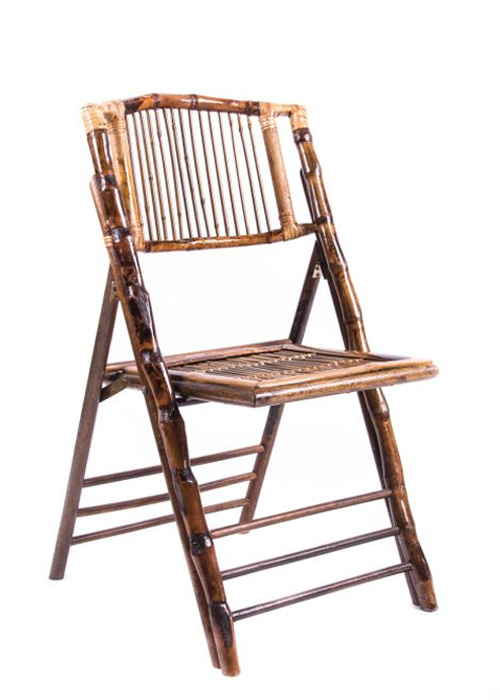chair: (25, 72, 466, 687)
